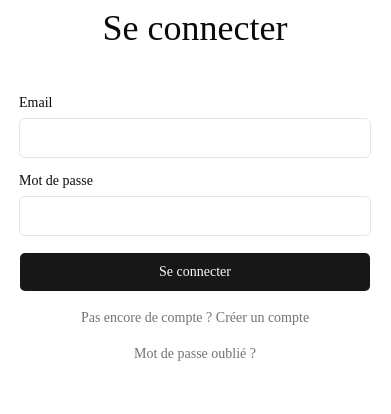
Test case: LoginPage › shows the error message returned by loginAction
The image size is (391, 414).
Type "user@example.com" into the field labelled "Email" at (195,138), box [19,118,371,158]
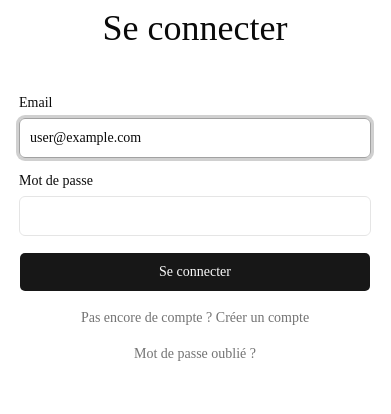
Type "wrongpassword" into the password field labelled "Mot de passe" at (195,216), box [19,196,371,236]
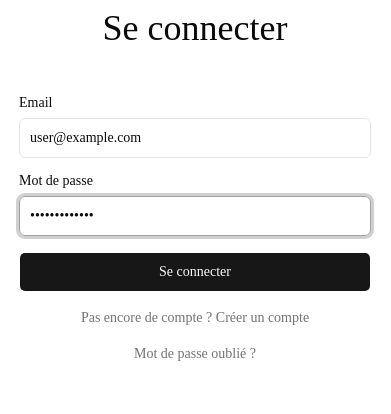
Click the button "Se connecter" at (195,272), box [19,252,371,292]
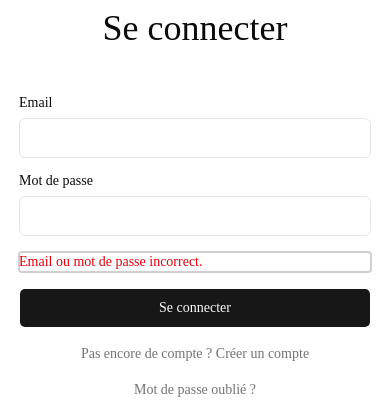
Now the text "Email ou mot de passe incorrect." is shown, box [19,254,202,269]
